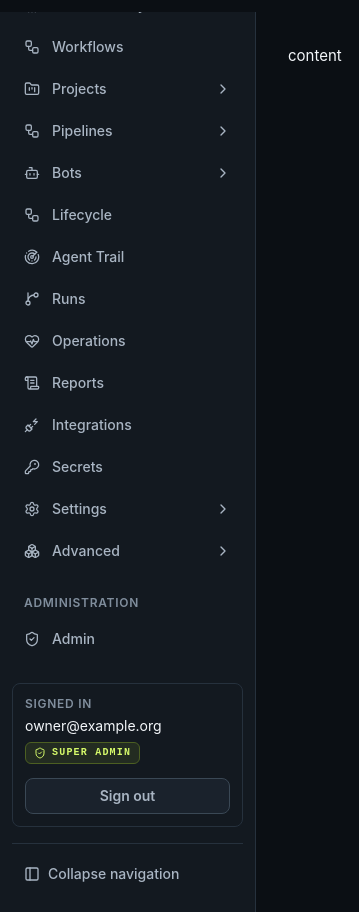
Test: retracting the column on a pointer device › collapses the account panel to one working glyph
The width and height of the screenshot is (359, 912).
(page scrolled)
Expected: the text "Signed in" is shown, [25,696,92,711]
Click the button "Collapse navigation".
click(128, 874)  # box [12,856,243,892]
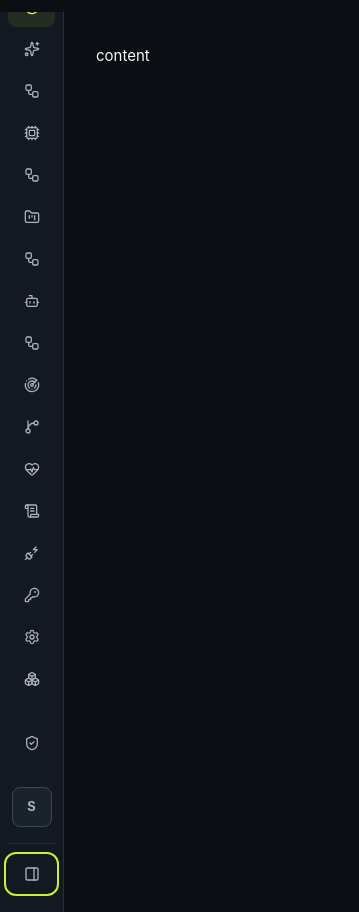
Now the text "Signed in" is gone
Now the text "owner@example.org" is gone
Now the text "Super admin" is gone
